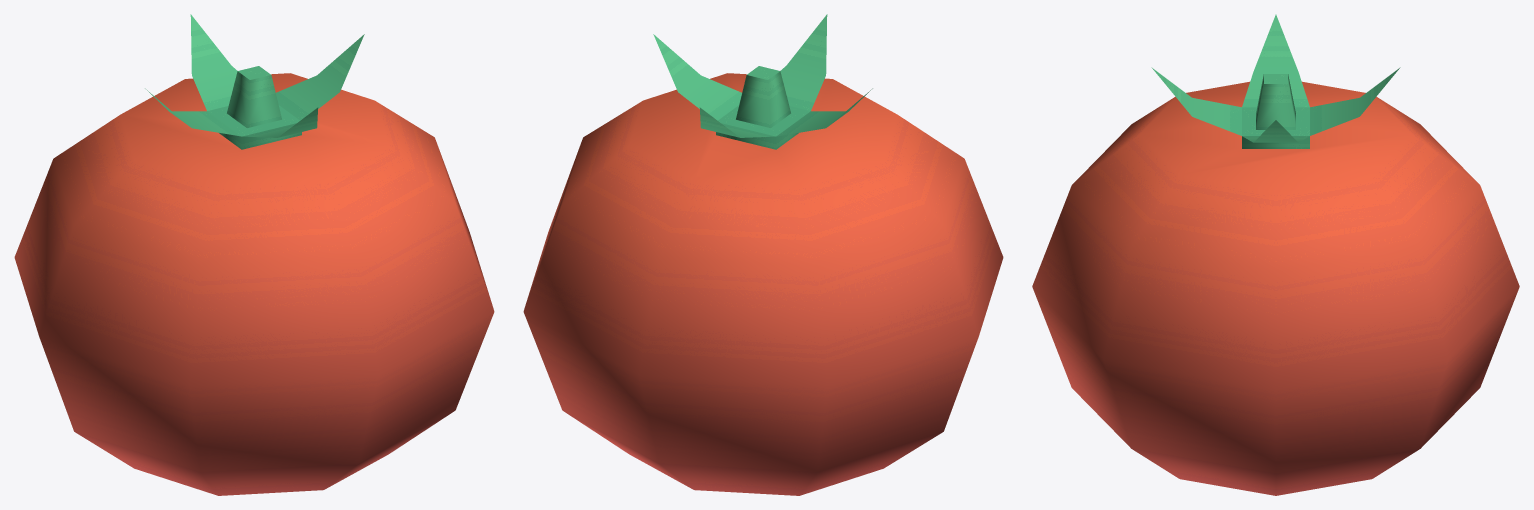
The model's file is tomato.glb.
3 renders of one model, left to right at view 1: azimuth 30°, elevation 25°; view 2: azimuth 150°, elevation 25°; view 3: azimuth 270°, elevation 25°, orthographic.
Visible parts, largest first — view 1: tomato; view 2: tomato; view 3: tomato.
Boxes of the visible parts, left/top/right/bottom form: tomato: left=14, top=14, right=494, bottom=495; tomato: left=523, top=14, right=1003, bottom=495; tomato: left=1032, top=14, right=1519, bottom=495.
Size of the model in its own units: 0.1697 by 0.1427 by 0.1697.
1 material, 1 textured.
